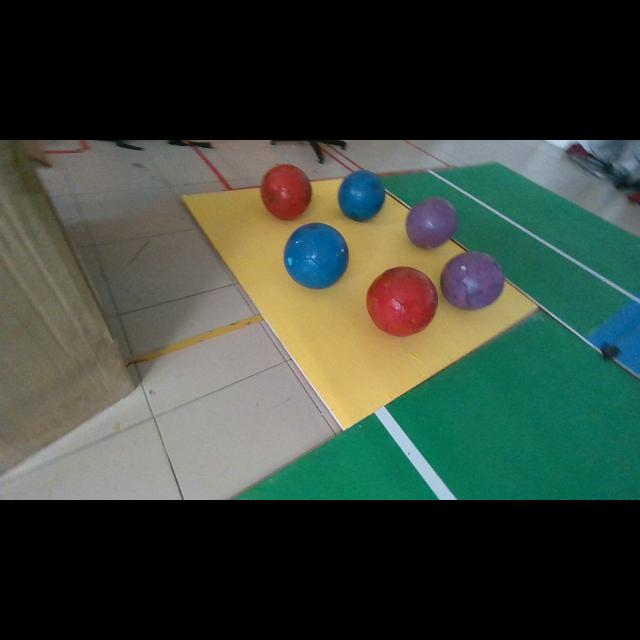B: (284, 222, 349, 289), (339, 170, 385, 221)
P: (440, 251, 505, 310), (406, 198, 458, 247)
R: (366, 266, 438, 336), (261, 165, 310, 220)
